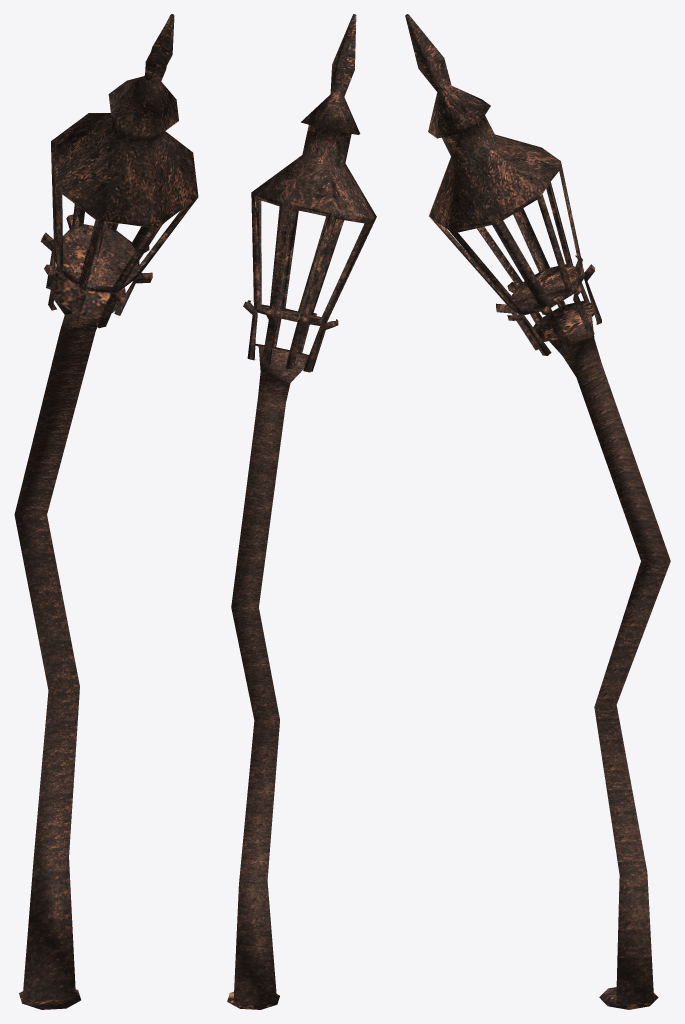
The model's file is lamp_LOD1.fbx.
The picture shows the model from 3 angles, left to right: view 1: azimuth 30°, elevation 25°; view 2: azimuth 150°, elevation 25°; view 3: azimuth 270°, elevation 25°; orthographic projection. The views are drawn at different scales.
Parts seen in each view (by area): view 1: lamp_LOD1; view 2: lamp_LOD1; view 3: lamp_LOD1.
Part boxes in pixels (left/top/right/bottom): lamp_LOD1: left=14, top=14, right=198, bottom=1009; lamp_LOD1: left=227, top=14, right=376, bottom=1009; lamp_LOD1: left=405, top=14, right=670, bottom=1009.
Bounding box in the file's own units: 0.3486 × 2.6 × 0.6368.
